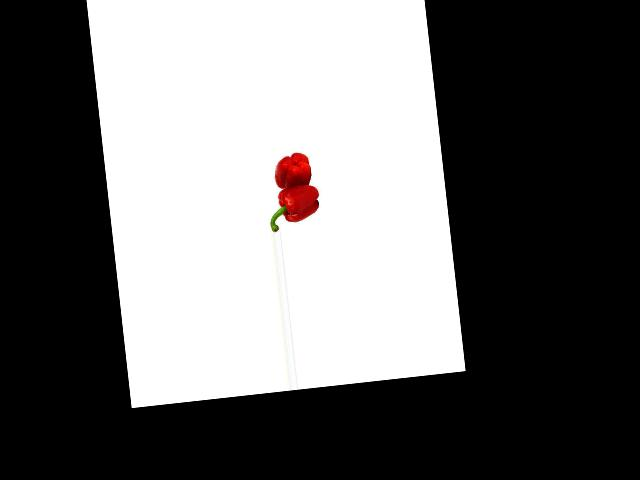bell_pepper: (270, 151, 314, 189)
